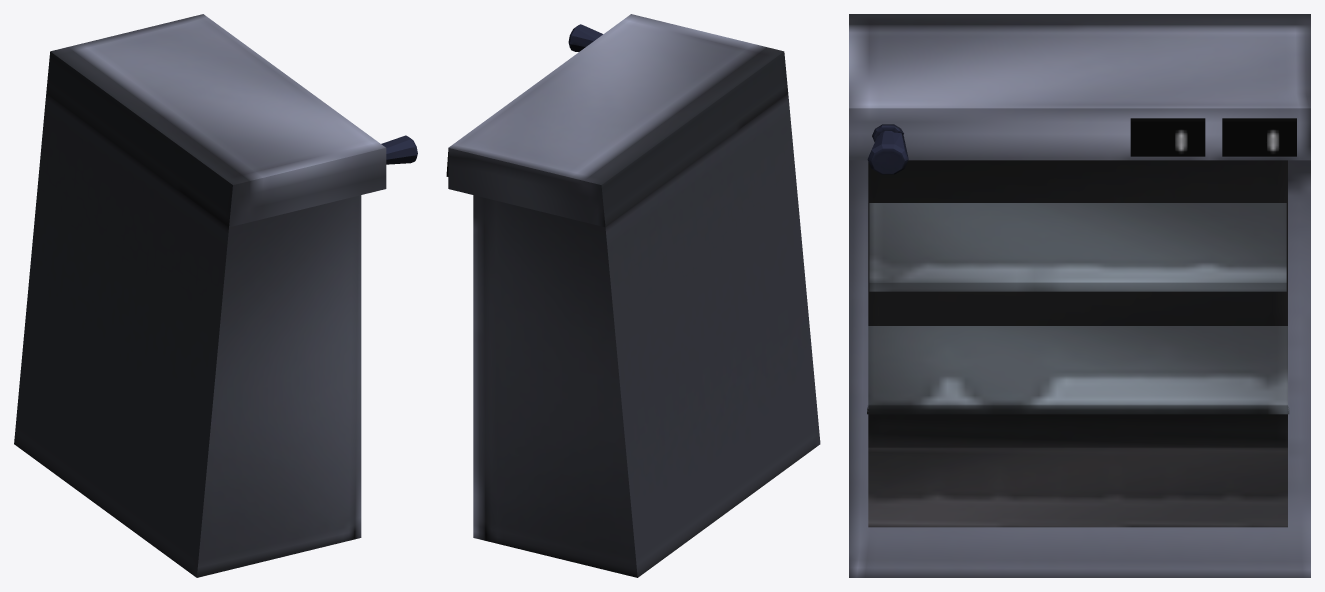
Rendered from Tx_props_oven_58.fbx.
3 views of the same model, side by side, from view 1: azimuth 30°, elevation 25°; view 2: azimuth 150°, elevation 25°; view 3: azimuth 270°, elevation 25° (orthographic). The views are drawn at different scales.
Visible parts, largest first — view 1: Tx_props_oven; view 2: Tx_props_oven; view 3: Tx_props_oven.
Boxes of the visible parts, box(x1,y1,x2,y2) form: Tx_props_oven: box(14, 14, 417, 577); Tx_props_oven: box(446, 14, 820, 577); Tx_props_oven: box(849, 14, 1310, 577).
Bounding box in the file's own units: 5.05 × 8.06 × 6.95.
